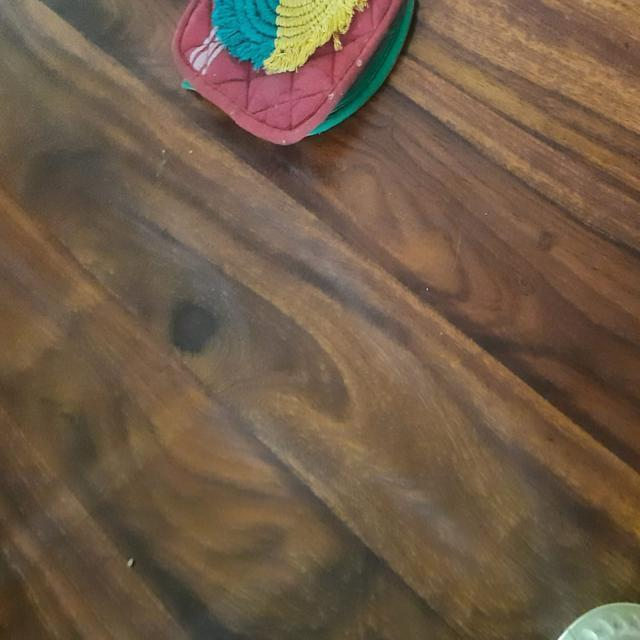fire: (77, 154, 508, 576)
